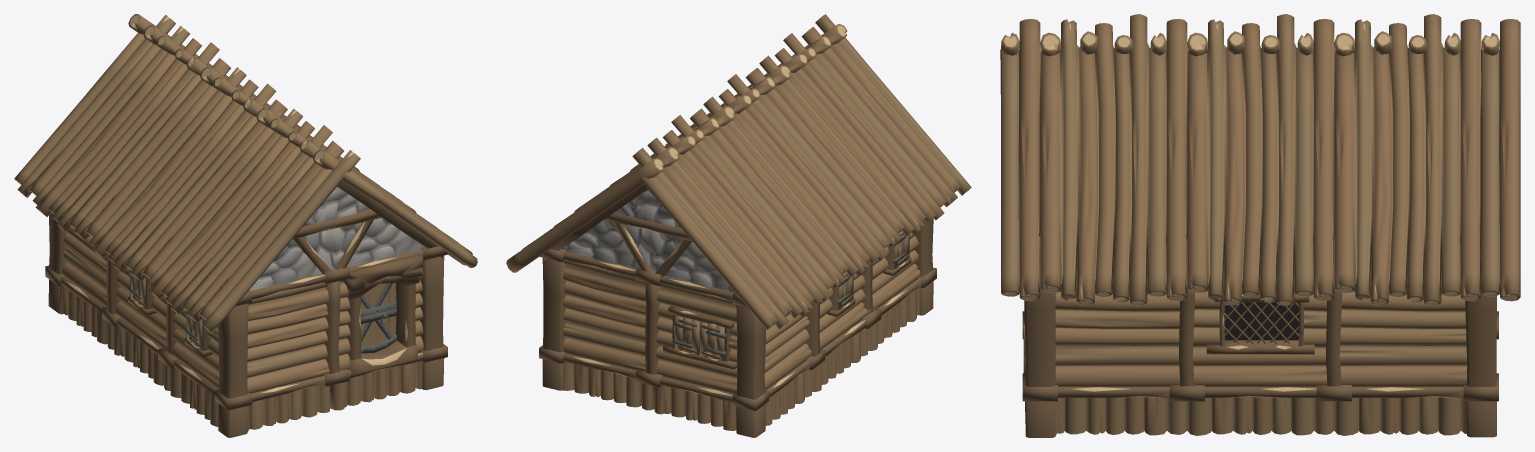
Rendered from rpgpp_ag_building_closed_02.fbx.
3 views of the same model, side by side, from view 1: azimuth 30°, elevation 25°; view 2: azimuth 150°, elevation 25°; view 3: azimuth 270°, elevation 25° (orthographic). The views are drawn at different scales.
Parts seen in each view (by area): view 1: rpgpp_ag_building_closed_02; view 2: rpgpp_ag_building_closed_02; view 3: rpgpp_ag_building_closed_02.
Part boxes in pixels (x1,y1,x2,y2): rpgpp_ag_building_closed_02: (14, 14, 477, 437); rpgpp_ag_building_closed_02: (506, 14, 971, 437); rpgpp_ag_building_closed_02: (1000, 14, 1520, 437).
Bounding box in the file's own units: 8.61 × 7.79 × 10.61.
